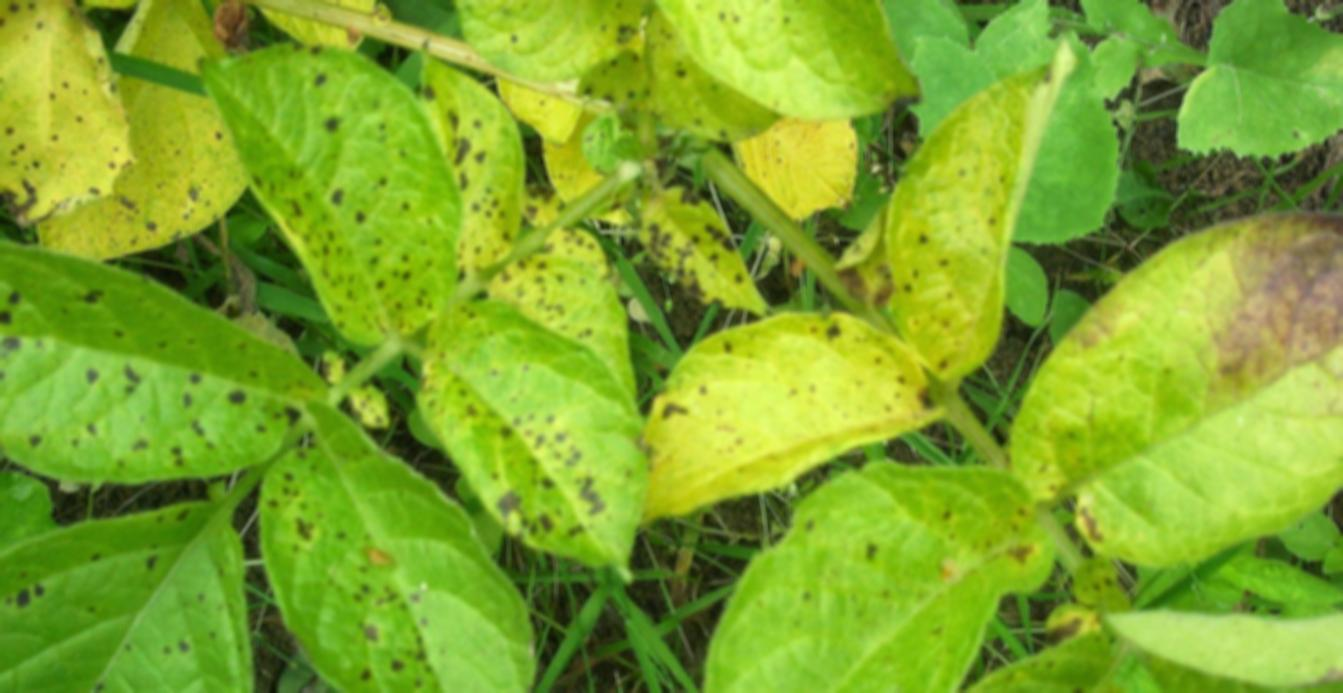Tomato Septoria leaf spot: (221, 13, 477, 408), (271, 379, 555, 693), (678, 457, 1054, 693), (0, 240, 312, 492), (414, 279, 639, 589), (877, 58, 1065, 406), (613, 311, 927, 518), (0, 0, 140, 224), (612, 173, 779, 319)
